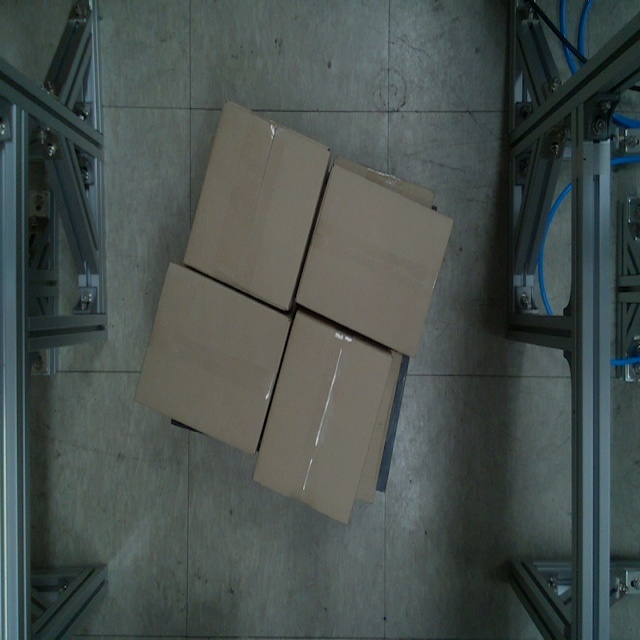box: (180, 96, 333, 317), (293, 162, 457, 360), (130, 259, 292, 455), (251, 311, 394, 524)
